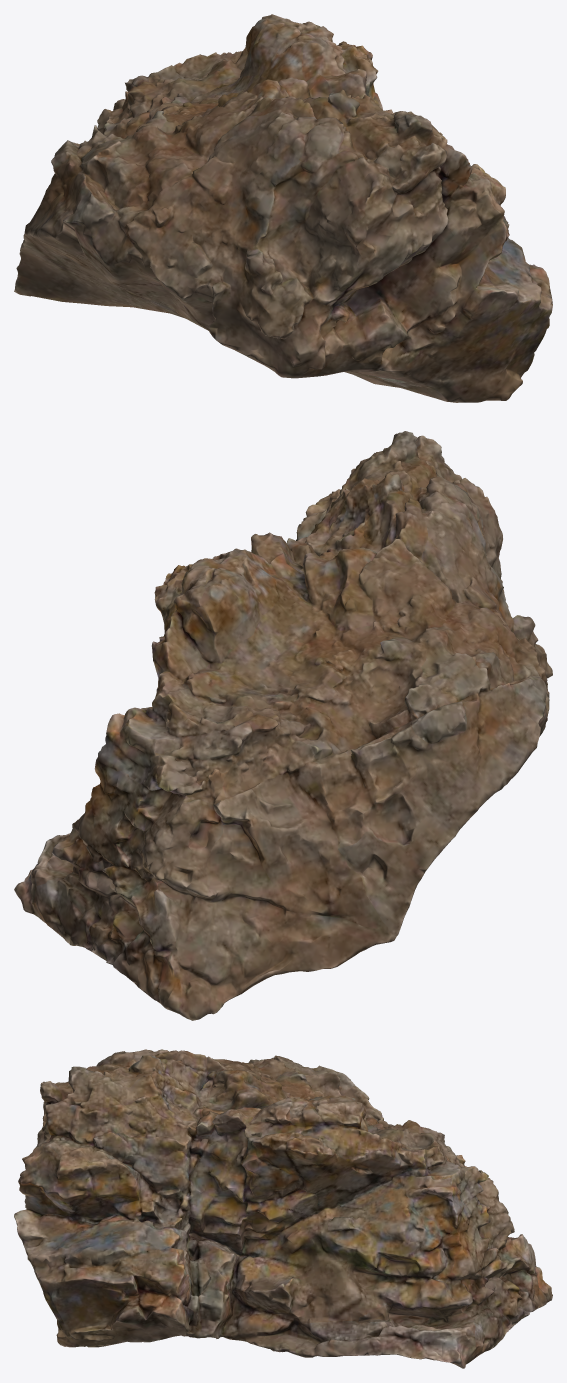
File: boulder_01.glb
The picture shows the model from 3 angles, top to bottom: view 1: azimuth 30°, elevation 25°; view 2: azimuth 150°, elevation 25°; view 3: azimuth 270°, elevation 25°; orthographic projection. The views are drawn at different scales.
Parts seen in each view (by area): view 1: boulder_01; view 2: boulder_01; view 3: boulder_01.
Part boxes in pixels (box(x1,y1,x2,y2)): boulder_01: box(14, 14, 552, 402); boulder_01: box(14, 431, 552, 1020); boulder_01: box(14, 1049, 552, 1368).
Size of the model in its own units: 1.27 by 1 by 1.83.
1 material, 1 textured.
